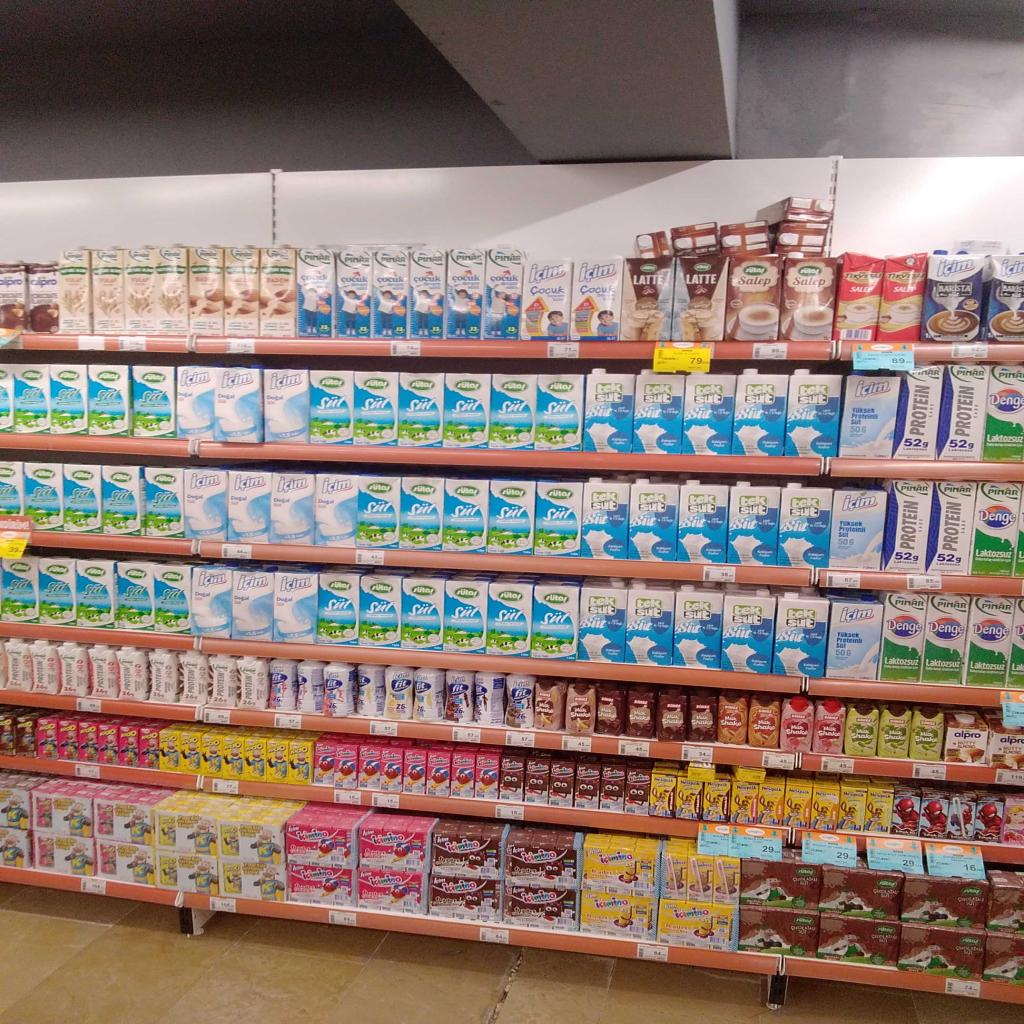price_tag: (925, 842, 985, 879), (866, 837, 924, 874), (802, 832, 857, 867), (730, 825, 785, 860), (653, 343, 711, 372), (853, 343, 914, 370), (697, 823, 731, 856), (852, 343, 891, 369), (1000, 690, 1024, 726), (681, 744, 714, 765), (889, 344, 914, 370), (752, 342, 788, 360), (944, 979, 980, 997), (951, 342, 988, 359), (826, 572, 861, 589), (762, 751, 795, 769), (912, 763, 946, 780), (0, 537, 27, 558), (702, 565, 735, 582), (821, 757, 854, 774), (687, 763, 715, 783), (637, 944, 668, 962), (618, 740, 650, 757), (734, 766, 765, 783), (907, 575, 942, 590), (328, 910, 357, 928), (495, 803, 524, 821), (548, 342, 579, 358), (561, 736, 592, 752), (480, 927, 509, 944), (506, 731, 536, 747), (356, 549, 384, 566), (452, 727, 481, 743), (391, 340, 420, 356), (0, 328, 23, 348), (372, 792, 399, 809), (227, 338, 257, 353), (222, 544, 252, 559), (370, 721, 398, 737), (203, 708, 230, 724), (274, 713, 301, 729), (996, 769, 1023, 785), (118, 336, 146, 351), (212, 778, 238, 794), (334, 790, 361, 805), (76, 697, 101, 713), (81, 878, 106, 894), (210, 897, 236, 912), (78, 336, 105, 350), (75, 764, 100, 779), (194, 775, 205, 790)
product: (218, 800, 304, 865), (93, 785, 183, 847), (285, 804, 368, 868), (840, 371, 900, 459), (825, 589, 883, 680), (927, 244, 979, 344), (154, 791, 232, 857), (784, 369, 842, 457), (663, 839, 741, 904), (732, 369, 789, 457), (828, 486, 887, 569), (968, 483, 1020, 577), (582, 833, 659, 896), (564, 252, 616, 344), (432, 820, 510, 881), (893, 366, 943, 461), (927, 482, 978, 575), (358, 812, 437, 872), (784, 252, 836, 343), (898, 924, 984, 979), (818, 865, 904, 920), (900, 875, 989, 928), (740, 852, 821, 910), (736, 367, 788, 457), (776, 484, 832, 567), (773, 594, 829, 677), (505, 828, 583, 887), (624, 251, 674, 343), (883, 481, 933, 573), (842, 370, 894, 458), (727, 482, 781, 566), (678, 247, 726, 341), (816, 914, 901, 966), (965, 596, 1013, 688), (943, 357, 985, 462), (722, 591, 775, 674), (790, 363, 838, 454), (683, 374, 736, 455), (922, 593, 969, 684), (633, 371, 685, 453), (584, 369, 635, 452), (522, 254, 571, 340), (673, 587, 724, 669), (628, 480, 679, 562), (733, 252, 779, 342), (879, 592, 925, 682), (739, 905, 820, 956), (678, 481, 728, 563), (657, 898, 732, 951), (335, 240, 375, 339), (626, 583, 674, 665), (579, 888, 656, 939), (577, 583, 626, 663), (581, 479, 629, 559), (530, 583, 580, 659), (146, 246, 189, 333), (535, 374, 583, 450), (317, 569, 365, 645), (503, 882, 579, 930), (217, 361, 262, 442), (446, 243, 483, 341), (535, 482, 583, 557), (883, 250, 922, 342), (489, 374, 536, 450), (486, 580, 533, 656), (267, 364, 312, 443), (487, 480, 535, 554), (429, 873, 501, 922), (443, 373, 490, 448), (313, 363, 357, 443), (314, 473, 361, 547), (401, 573, 446, 650), (484, 242, 520, 338), (988, 248, 1024, 344), (442, 478, 488, 553), (357, 572, 402, 648), (33, 782, 93, 839), (357, 867, 428, 915), (410, 237, 443, 340), (298, 243, 334, 337), (991, 362, 1024, 464), (375, 239, 410, 335), (443, 578, 487, 653), (270, 472, 315, 545), (175, 362, 216, 442), (400, 476, 444, 550), (223, 247, 259, 337), (134, 362, 176, 439), (262, 245, 297, 337), (183, 467, 227, 540), (356, 476, 400, 549), (191, 565, 235, 638), (840, 251, 876, 340), (228, 470, 272, 542), (90, 362, 132, 436), (232, 569, 275, 641), (274, 571, 317, 643), (401, 367, 441, 444), (156, 848, 220, 896), (359, 367, 398, 445), (50, 361, 90, 437), (0, 770, 50, 830), (189, 247, 223, 335), (288, 861, 354, 906), (33, 830, 96, 877), (125, 247, 159, 333), (102, 466, 144, 535), (57, 248, 91, 332), (144, 467, 184, 538), (151, 563, 191, 634), (222, 858, 286, 902), (114, 561, 154, 631), (97, 840, 156, 887), (92, 249, 125, 333), (76, 559, 115, 628), (37, 557, 76, 625), (24, 462, 63, 530), (64, 463, 101, 533), (0, 556, 38, 622), (14, 364, 50, 433), (986, 870, 1023, 935), (943, 711, 989, 763), (982, 932, 1023, 986), (28, 264, 59, 332), (844, 701, 879, 757), (908, 707, 944, 761), (876, 704, 911, 758), (780, 695, 813, 752), (813, 697, 845, 755), (747, 693, 780, 748), (323, 663, 357, 716), (808, 774, 839, 831), (988, 720, 1023, 770), (237, 656, 269, 709), (117, 647, 149, 700), (87, 644, 119, 697), (57, 642, 89, 695), (0, 263, 26, 328), (474, 671, 505, 725), (535, 678, 567, 730), (862, 780, 894, 832), (782, 772, 812, 827), (716, 691, 747, 744), (838, 776, 867, 832), (506, 674, 536, 728), (414, 667, 444, 721), (565, 683, 596, 735), (208, 655, 239, 707), (180, 651, 209, 706), (31, 639, 60, 694), (288, 734, 319, 785), (149, 651, 180, 702), (657, 689, 686, 742), (445, 670, 474, 723), (384, 666, 412, 720), (687, 690, 716, 742), (625, 687, 654, 739), (356, 664, 385, 716), (973, 794, 1005, 841), (701, 772, 731, 822), (728, 776, 759, 824), (625, 759, 652, 814), (298, 660, 326, 713), (4, 638, 32, 691), (269, 659, 298, 710), (132, 721, 162, 770), (178, 724, 208, 773), (574, 755, 601, 809), (596, 683, 624, 735), (600, 759, 628, 811), (918, 791, 948, 839), (757, 774, 785, 825), (890, 790, 921, 836), (548, 757, 576, 807), (451, 747, 478, 798), (524, 753, 551, 804), (1008, 597, 1023, 688), (649, 767, 676, 817), (0, 826, 32, 868), (0, 461, 24, 516), (475, 747, 500, 799), (312, 738, 339, 786), (948, 794, 976, 840), (334, 738, 359, 788), (499, 751, 524, 801), (117, 719, 143, 766), (358, 742, 383, 790), (427, 747, 451, 796), (402, 747, 427, 794), (1001, 794, 1023, 847), (675, 776, 702, 819), (380, 745, 404, 793), (15, 712, 41, 756), (36, 715, 61, 759), (77, 717, 100, 762), (243, 734, 265, 781), (267, 733, 287, 783), (97, 719, 119, 764), (58, 715, 78, 760), (160, 726, 180, 771), (0, 364, 13, 433), (222, 739, 244, 779), (203, 730, 221, 777), (0, 713, 16, 755)
